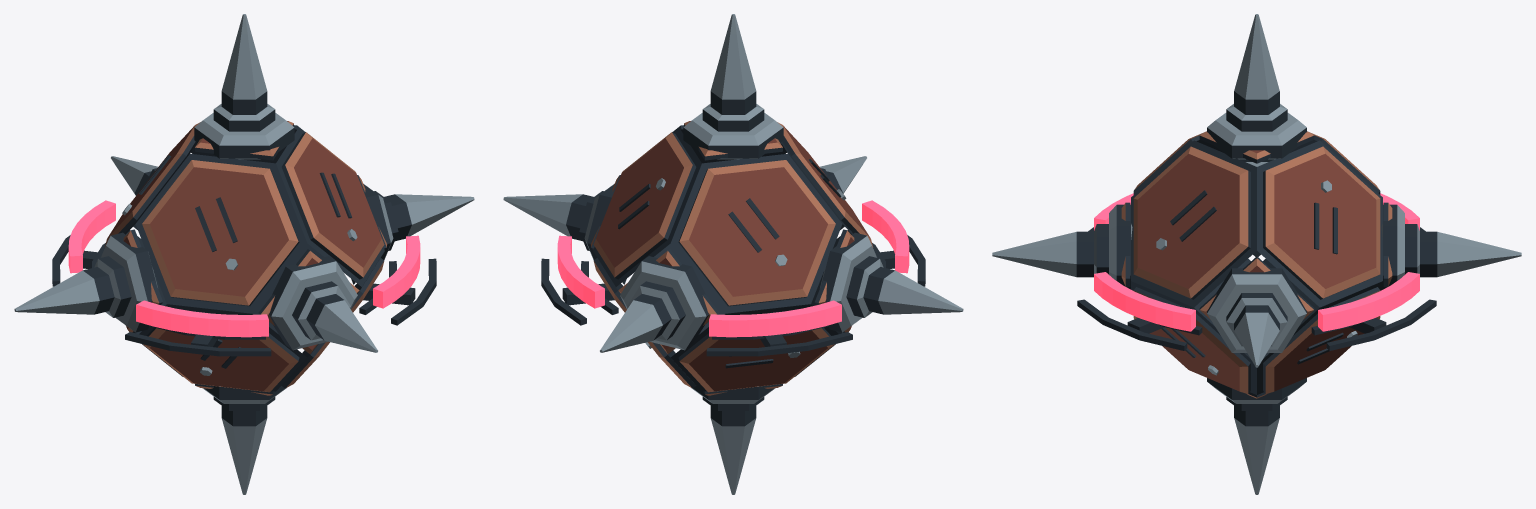
File: mine.glb
The picture shows the model from 3 angles, left to right: view 1: azimuth 30°, elevation 25°; view 2: azimuth 150°, elevation 25°; view 3: azimuth 270°, elevation 25°; orthographic projection.
Visible parts, largest first — view 1: core, contacts, lamp; view 2: core, contacts, lamp; view 3: core, contacts, lamp.
Part boxes in pixels (x1,y1,x2,y2): core: (104, 121, 387, 395); contacts: (14, 14, 474, 494); lamp: (68, 200, 420, 337); core: (590, 121, 873, 395); contacts: (503, 14, 963, 494); lamp: (557, 200, 909, 337); core: (1121, 131, 1392, 398); contacts: (992, 14, 1521, 494); lamp: (1094, 193, 1419, 331).
Size of the model in its own units: 3.7 by 3.7 by 3.7.
